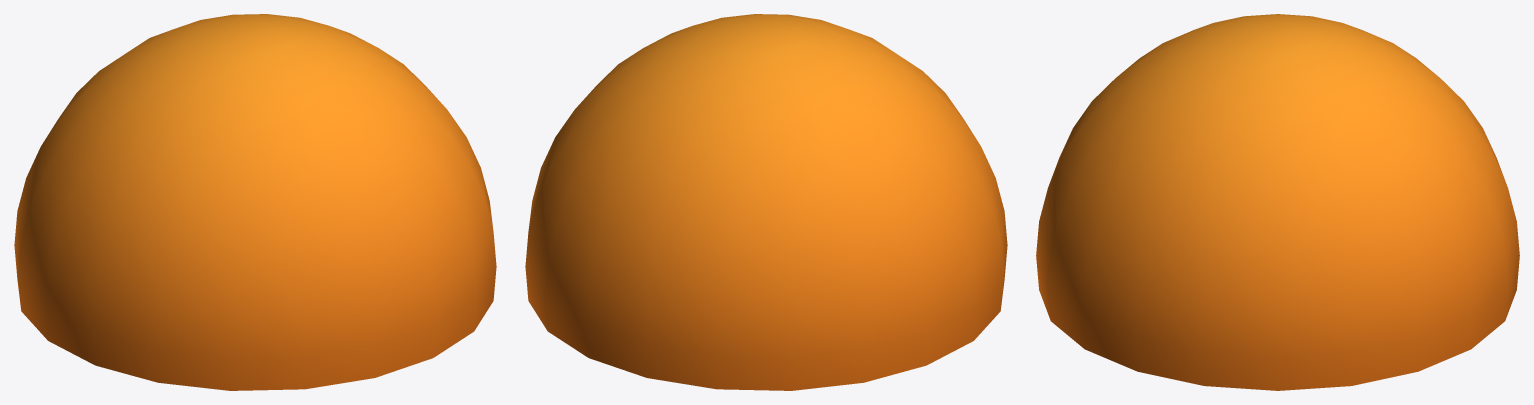
File: Lava_Stage.fbx
3 renders of one model, left to right at view 1: azimuth 30°, elevation 25°; view 2: azimuth 150°, elevation 25°; view 3: azimuth 270°, elevation 25°, orthographic.
Parts seen in each view (by area): view 1: sky; view 2: sky; view 3: sky.
Boxes of the visible parts, x1=… form: sky: x1=14, y1=14, x2=496, y2=390; sky: x1=525, y1=14, x2=1007, y2=390; sky: x1=1036, y1=14, x2=1519, y2=390.
Size of the model in its own units: 125 by 72.18 by 125.
4 materials, 4 textured.
